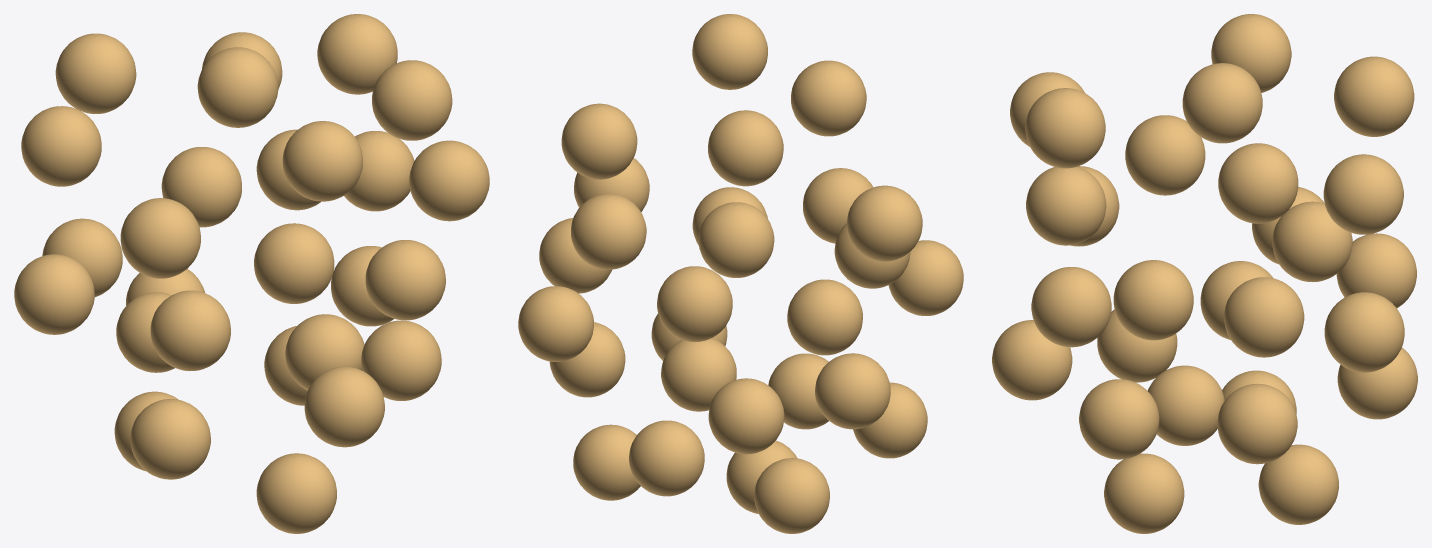
Rendered from copperlatt.glb.
3 views of the same model, side by side, from view 1: azimuth 30°, elevation 25°; view 2: azimuth 150°, elevation 25°; view 3: azimuth 270°, elevation 25° (orthographic). The views are drawn at different scales.
Parts seen in each view (by area): view 1: Copper_ball (×31); view 2: Copper_ball (×31); view 3: Copper_ball (×32).
Part boxes in pixels (x1,y1,x2,y2): Copper_ball (×31): (14, 14, 489, 533); Copper_ball (×31): (518, 14, 963, 533); Copper_ball (×32): (992, 14, 1417, 533).
Size of the model in its own units: 1.88 by 2.1 by 1.7.
